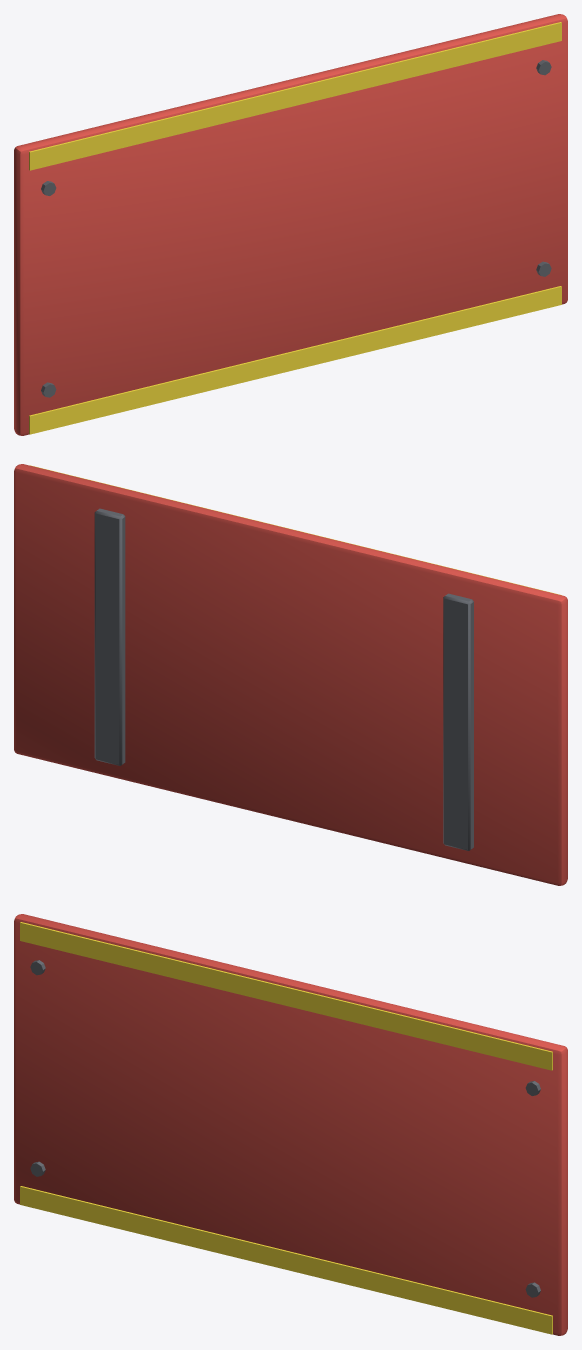
The model's file is Barrier_Sign.fbx.
3 renders of one model, top to bottom at view 1: azimuth 30°, elevation 25°; view 2: azimuth 150°, elevation 25°; view 3: azimuth 330°, elevation 25°, orthographic.
Parts seen in each view (by area): view 1: Barrier_Sign; view 2: Barrier_Sign; view 3: Barrier_Sign.
Boxes of the visible parts, <box> form: Barrier_Sign: <box>14,14,567,435</box>; Barrier_Sign: <box>14,464,567,885</box>; Barrier_Sign: <box>14,914,567,1335</box>.
Bounding box in the file's own units: 1.2 × 0.6 × 0.06.
